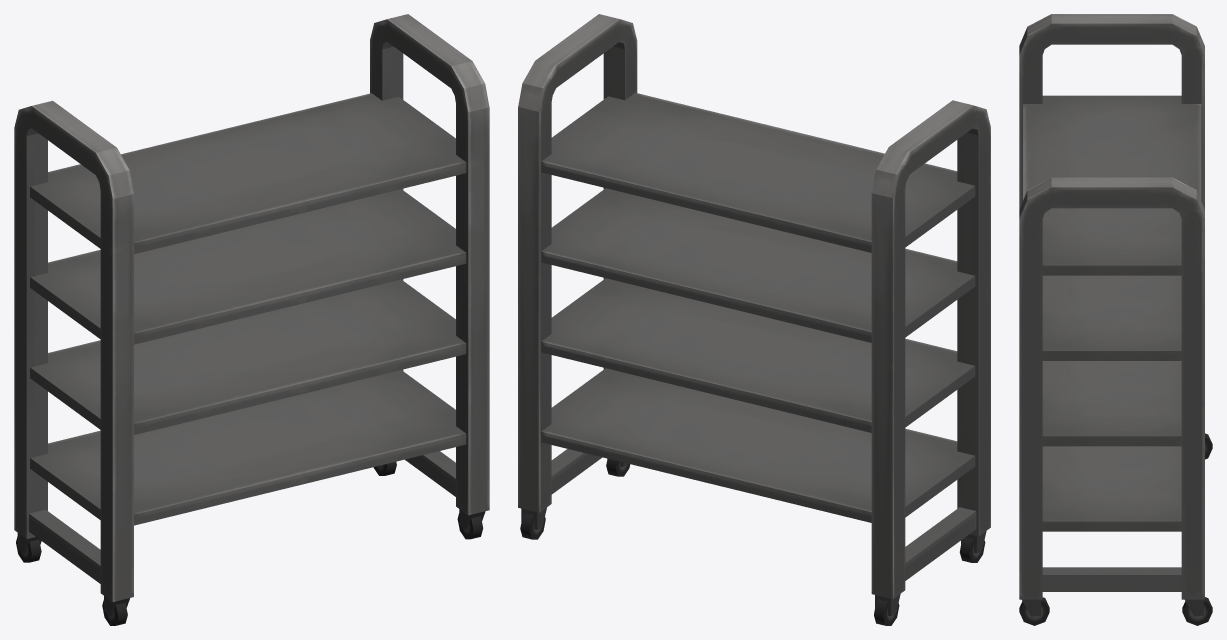
Rendered from передвижная полка.fbx.
3 views of the same model, side by side, from view 1: azimuth 30°, elevation 25°; view 2: azimuth 150°, elevation 25°; view 3: azimuth 270°, elevation 25° (orthographic). The views are drawn at different scales.
Parts seen in each view (by area): view 1: Box053; view 2: Box053, Object048, Object046; view 3: Box053, Object048, Object049.
Part boxes in pixels (<box>): Box053: <box>14,14,489,601</box>; Box053: <box>518,14,990,598</box>; Object048: <box>520,507,546,539</box>; Object046: <box>874,594,900,625</box>; Box053: <box>1019,14,1204,599</box>; Object048: <box>1182,597,1212,625</box>; Object049: <box>1019,597,1049,625</box>.
Size of the model in its own units: 52.3 by 62.06 by 24.63.
